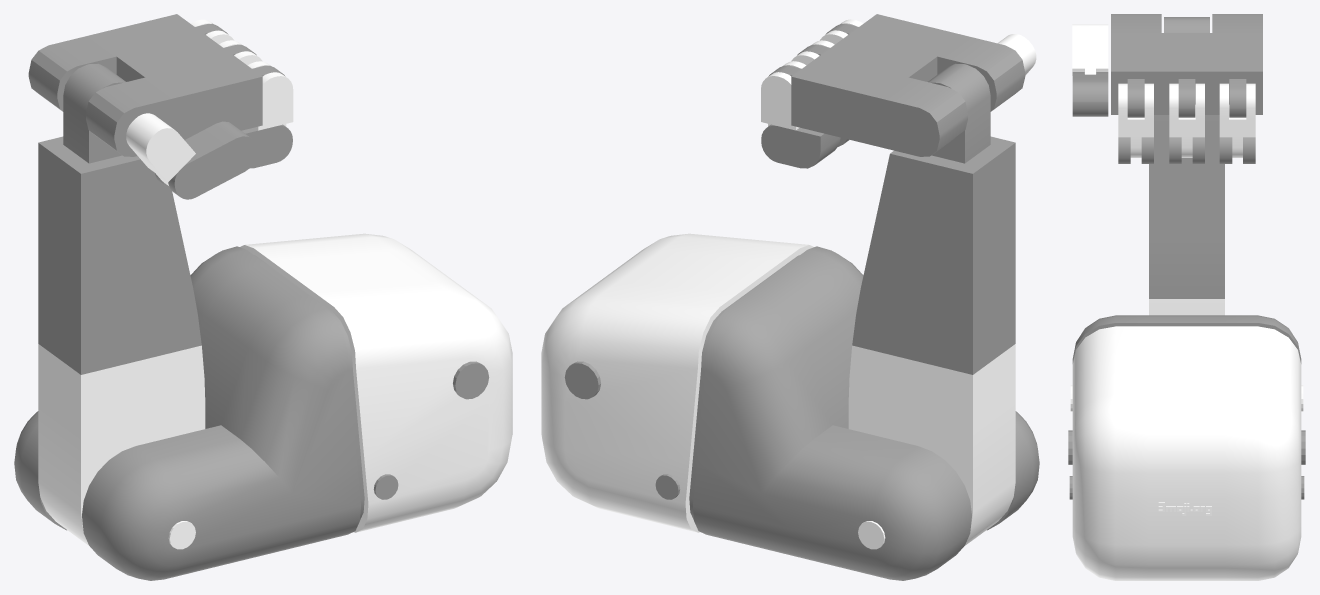
File: mechanical_arm.gltf
3 views of the same model, side by side, from view 1: azimuth 30°, elevation 25°; view 2: azimuth 150°, elevation 25°; view 3: azimuth 270°, elevation 25° (orthographic). The views are drawn at different scales.
Visible parts, largest first — view 1: Cube.103; view 2: Cube.103; view 3: Cube.103.
Boxes of the visible parts, x1,y1,x2,y2 form: Cube.103: (14, 14, 512, 580); Cube.103: (541, 14, 1039, 580); Cube.103: (1068, 14, 1305, 580).
Size of the model in its own units: 1.49 by 1.66 by 0.8422.
1 material, 1 textured.
